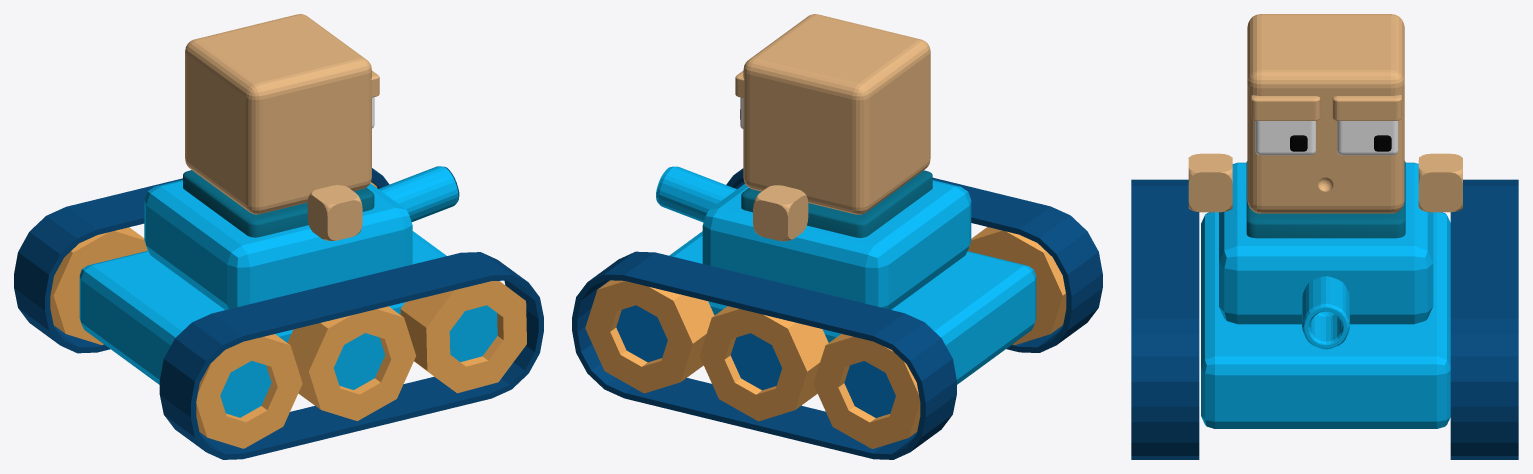
Rendered from tank.glb.
3 renders of one model, left to right at view 1: azimuth 30°, elevation 25°; view 2: azimuth 150°, elevation 25°; view 3: azimuth 270°, elevation 25°, orthographic. The views are drawn at different scales.
Visible parts, largest first — view 1: Cube.014, Plane, tank, Cube.030, WheelCenter.R, WheelFront.R, WheelRear.R, Plane.002, WheelRear.L, Cube.016, Gun, Cube.028; view 2: Cube.014, Plane.002, tank, Cube.030, WheelFront.L, WheelCenter.L, WheelRear.L, Plane, WheelRear.R, Cube.016, Gun, Cube.027; view 3: Cube.030, Cube.014, tank, Plane, Plane.002, Cube.016, Gun, Cube.027, Cube.028, Cube.022, Cube.019, Cube.026 (+1 smaller).
Part boxes in pixels (box(x1,y1,x2,y2)): Cube.014: box(185, 14, 371, 214); Plane: box(159, 252, 543, 459); tank: box(144, 179, 412, 309); Cube.030: box(79, 231, 446, 384); WheelCenter.R: box(287, 306, 415, 420); WheelFront.R: box(400, 281, 526, 393); WheelRear.R: box(196, 334, 302, 448); Plane.002: box(14, 168, 389, 353); WheelRear.L: box(50, 227, 147, 344); Cube.016: box(183, 170, 374, 237); Gun: box(378, 166, 459, 221); Cube.028: box(307, 185, 362, 240); Cube.014: box(743, 14, 930, 214); Plane.002: box(572, 251, 956, 459); tank: box(702, 180, 971, 309); Cube.030: box(669, 231, 1036, 384); WheelFront.L: box(585, 280, 714, 393); WheelCenter.L: box(699, 306, 828, 421); WheelRear.L: box(813, 334, 920, 448); Plane: box(726, 168, 1102, 352); WheelRear.R: box(968, 227, 1066, 345); Cube.016: box(741, 170, 932, 237); Gun: box(656, 166, 736, 222); Cube.027: box(753, 185, 808, 241); Cube.030: box(1201, 212, 1450, 428); Cube.014: box(1247, 14, 1404, 213); tank: box(1219, 162, 1433, 324); Plane: box(1131, 179, 1199, 459); Plane.002: box(1450, 179, 1518, 459); Cube.016: box(1246, 161, 1405, 238); Gun: box(1302, 276, 1349, 349); Cube.027: box(1418, 153, 1462, 212); Cube.028: box(1188, 153, 1232, 212); Cube.022: box(1337, 120, 1398, 155); Cube.019: box(1255, 120, 1315, 155); Cube.026: box(1332, 95, 1401, 120).
Size of the model in its own units: 0.5067 by 0.4315 by 0.4397.
